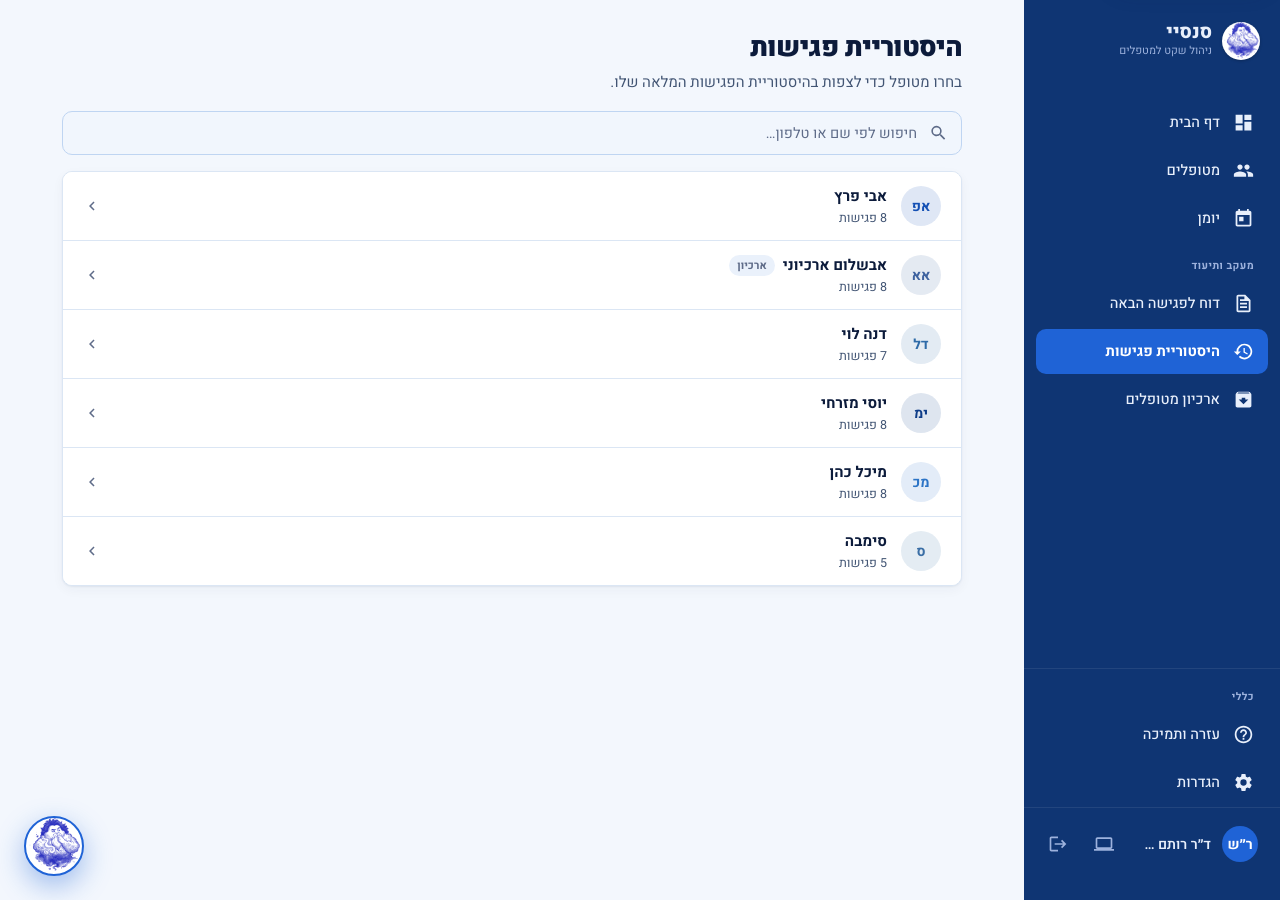
Test: session history — canonical patient directory › lists active + archived patients with search, and opens a patient history on click
search filters the list
Type "אבשלום" into the field named "חיפוש מטופל".
click(512, 133); type("אבשלום")  # box [62, 111, 962, 155]
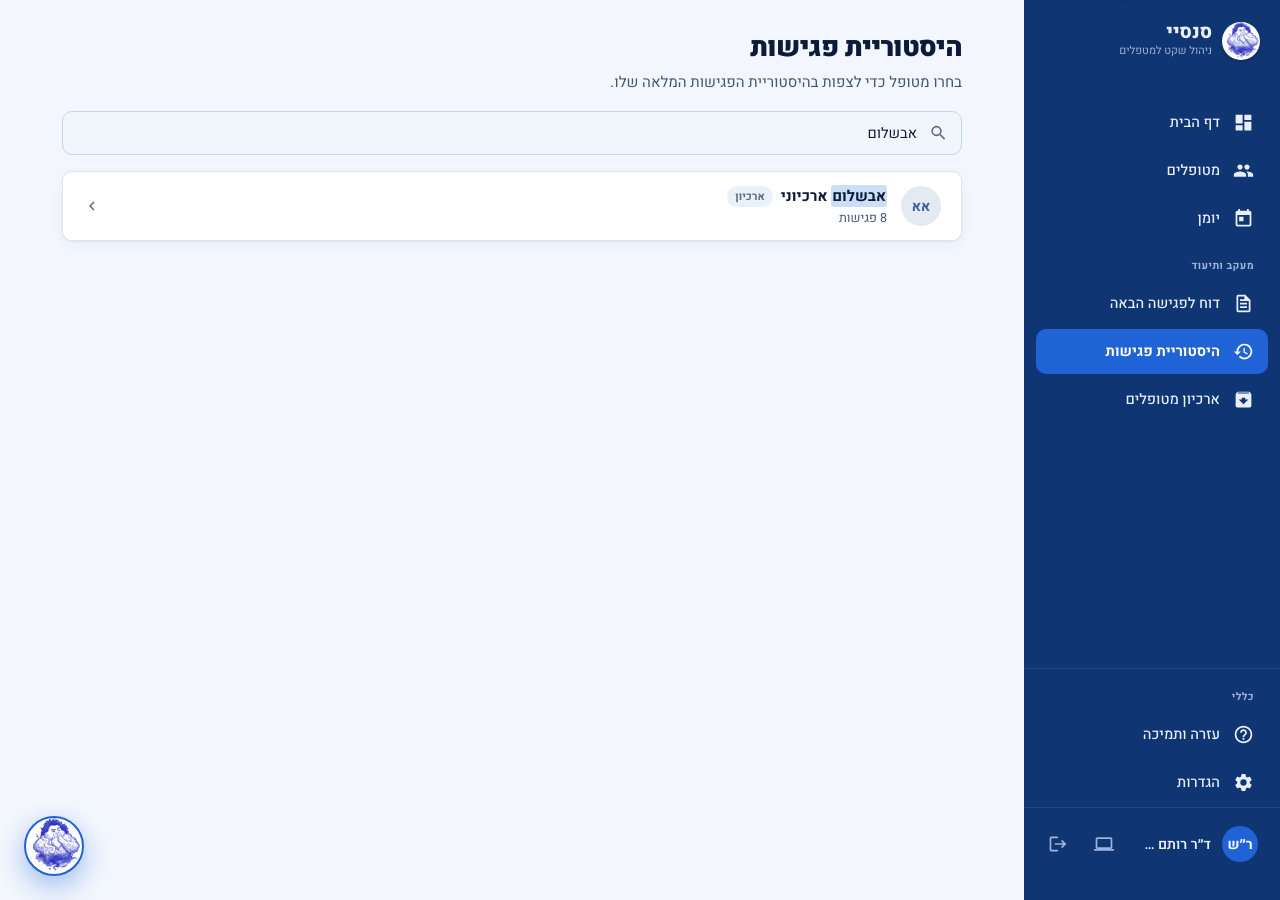
Expected: the number of buttons with class "mh-dir-row" is 1
clicking opens that patient's full history (same screen)
Click the button with class "mh-dir-row".
click(921, 206)  # box [63, 172, 961, 240]
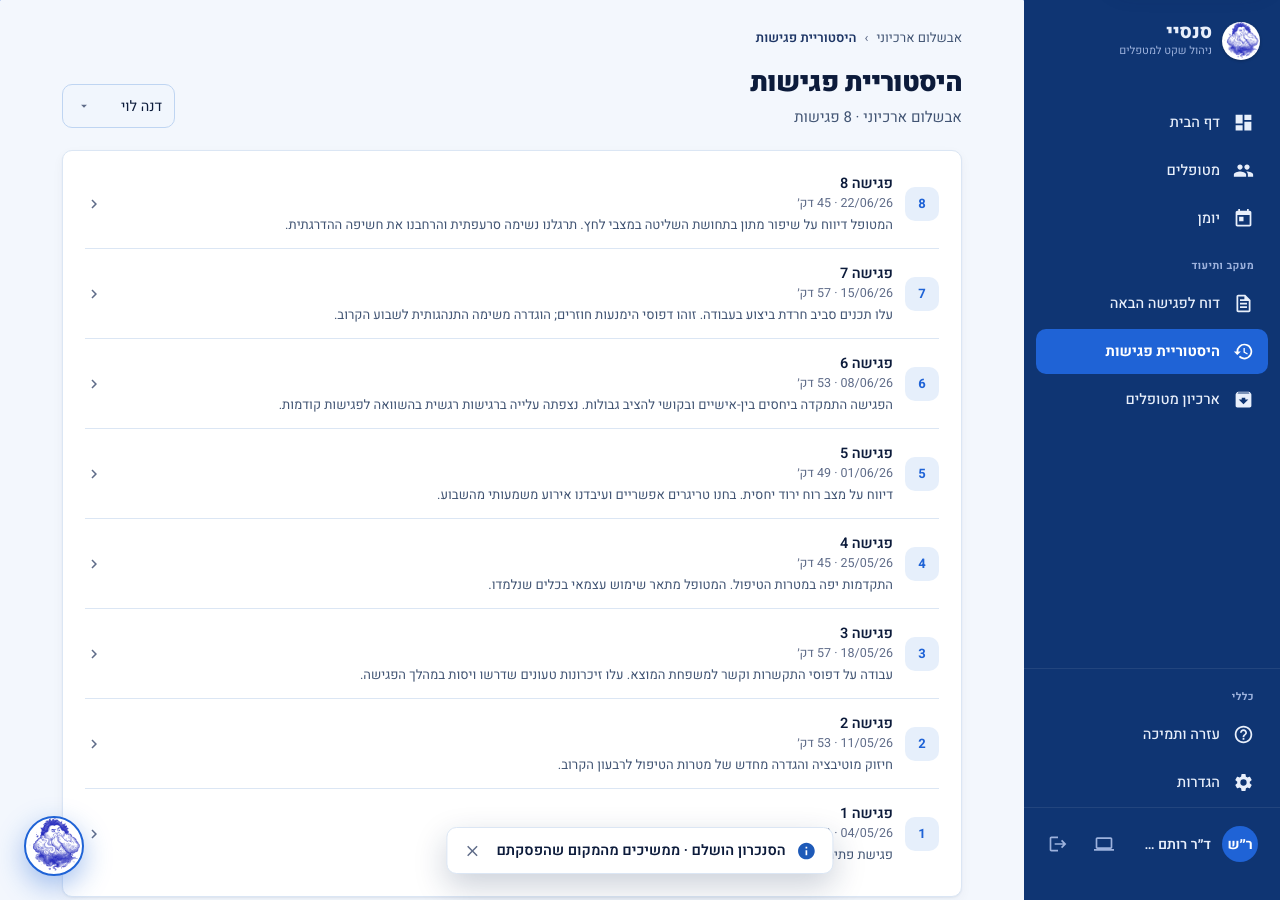
Expected: the text "אבשלום ארכיוני" is shown, [876, 28, 962, 47]
Expected: the button with class "mh-dir-row" is gone
